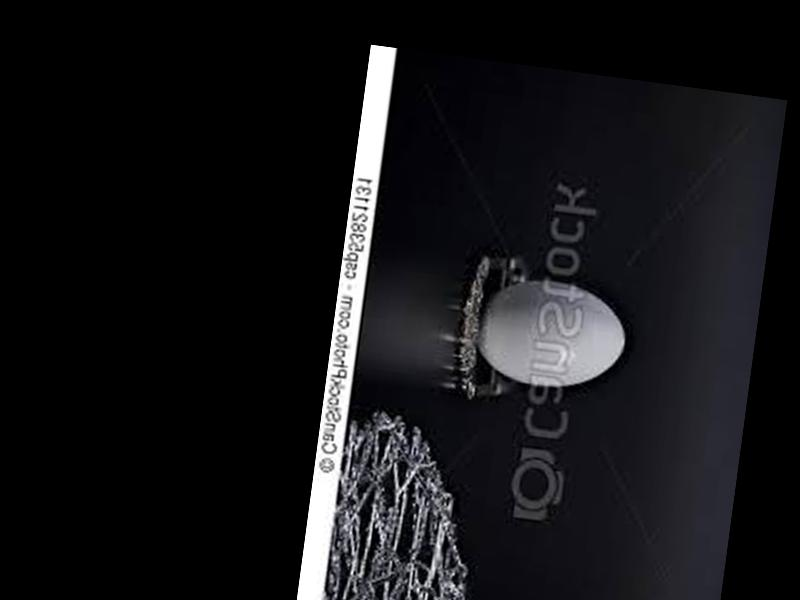Eggs: (471, 272, 631, 397)
